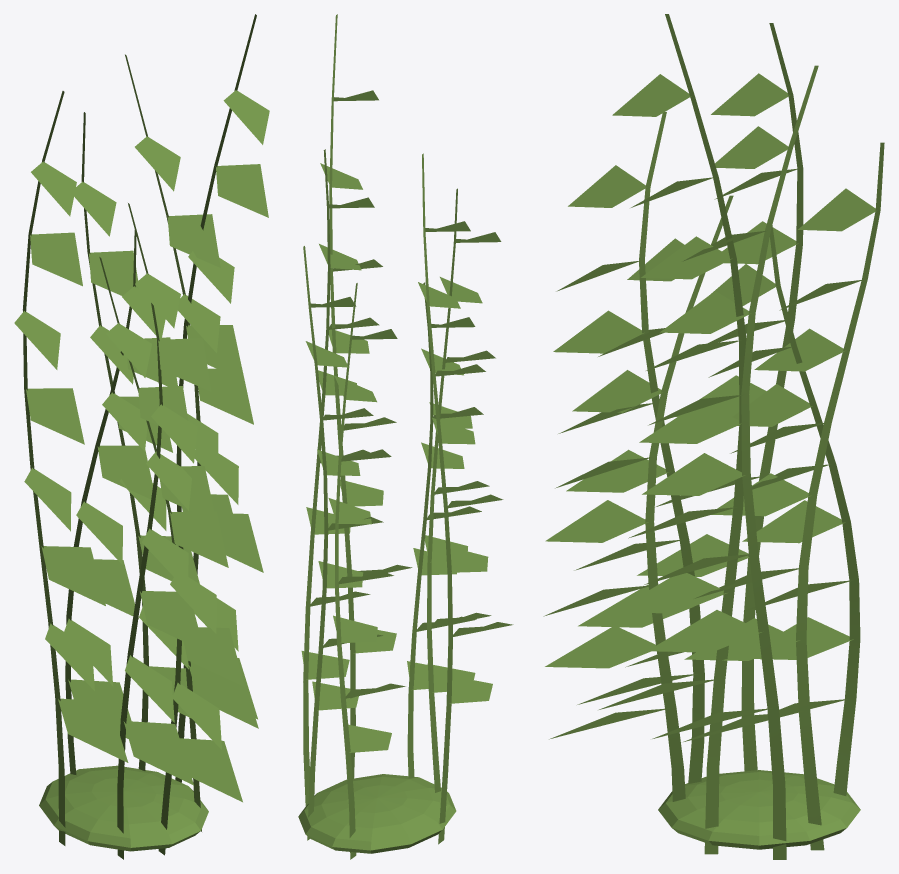
The model's file is KelpCluster_LOD0.glb.
3 views of the same model, side by side, from view 1: azimuth 30°, elevation 25°; view 2: azimuth 150°, elevation 25°; view 3: azimuth 270°, elevation 25° (orthographic). The views are drawn at different scales.
Parts seen in each view (by area): view 1: KelpCluster_LOD0; view 2: KelpCluster_LOD0; view 3: KelpCluster_LOD0.
Boxes of the visible parts, box(x1,y1,x2,y2) form: KelpCluster_LOD0: box(14, 14, 269, 859); KelpCluster_LOD0: box(298, 14, 513, 859); KelpCluster_LOD0: box(543, 14, 884, 859).
Bounding box in the file's own units: 0.4516 × 1.68 × 0.6067.
